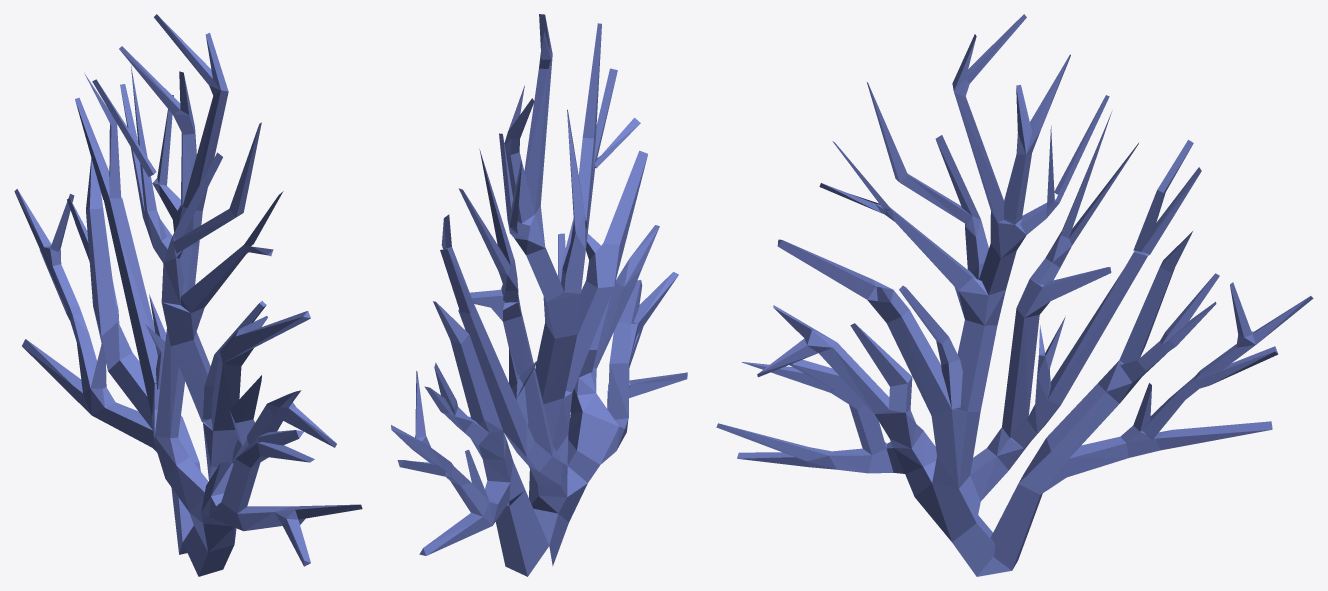
File: Coral4.glb
The picture shows the model from 3 angles, left to right: view 1: azimuth 30°, elevation 25°; view 2: azimuth 150°, elevation 25°; view 3: azimuth 270°, elevation 25°; orthographic projection. The views are drawn at different scales.
Visible parts, largest first — view 1: Coral.004; view 2: Coral.004; view 3: Coral.004.
Part boxes in pixels (x1=…): Coral.004: x1=14, y1=14, x2=362, y2=576; Coral.004: x1=391, y1=14, x2=687, y2=576; Coral.004: x1=716, y1=14, x2=1313, y2=576.
Size of the model in its own units: 6.52 by 47.76 by 47.63.
